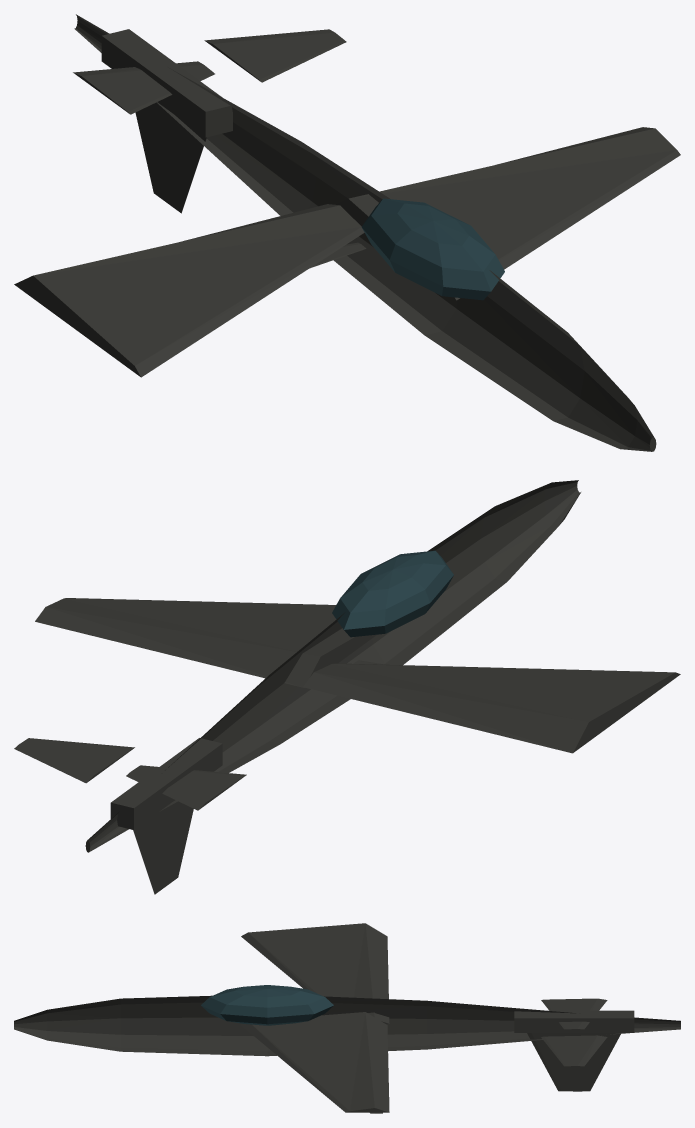
The model's file is mig29_Destroyed.glb.
3 views of the same model, one above another, from view 1: azimuth 30°, elevation 25°; view 2: azimuth 150°, elevation 25°; view 3: azimuth 270°, elevation 25° (orthographic). The views are drawn at different scales.
Parts seen in each view (by area): view 1: Fuselage, Wing_L, Wing_R, Cockpit, TailBoom, Rudder, Elevator_R, Elevator_L; view 2: Fuselage, Wing_L, Wing_R, Cockpit, TailBoom, Rudder, Elevator_R, Elevator_L; view 3: Fuselage, Wing_R, Wing_L, Cockpit, TailBoom, Rudder, Elevator_R, Elevator_L.
Boxes of the visible parts, x1=… form: Fuselage: x1=74, y1=14, x2=656, y2=451; Wing_L: x1=14, y1=204, x2=364, y2=377; Wing_R: x1=336, y1=127, x2=680, y2=300; Cockpit: x1=361, y1=198, x2=504, y2=300; TailBoom: x1=101, y1=29, x2=232, y2=137; Rudder: x1=135, y1=102, x2=206, y2=213; Elevator_R: x1=204, y1=29, x2=346, y2=82; Elevator_L: x1=73, y1=61, x2=214, y2=114; Fuselage: x1=85, y1=480, x2=580, y2=852; Wing_L: x1=303, y1=663, x2=680, y2=753; Wing_R: x1=35, y1=598, x2=376, y2=687; Cockpit: x1=332, y1=550, x2=453, y2=637; TailBoom: x1=110, y1=738, x2=222, y2=829; Rudder: x1=133, y1=800, x2=193, y2=894; Elevator_R: x1=14, y1=738, x2=134, y2=783; Elevator_L: x1=126, y1=765, x2=246, y2=810; Fuselage: x1=14, y1=995, x2=680, y2=1056; Wing_R: x1=241, y1=1012, x2=389, y2=1112; Wing_L: x1=241, y1=923, x2=389, y2=1023; Cockpit: x1=201, y1=985, x2=333, y2=1025; TailBoom: x1=514, y1=1010, x2=634, y2=1032; Rudder: x1=527, y1=1033, x2=621, y2=1091; Elevator_R: x1=541, y1=1035, x2=607, y2=1066; Elevator_L: x1=541, y1=998, x2=607, y2=1029.
Bounding box in the file's own units: 10.91 × 2.93 × 17.32.
